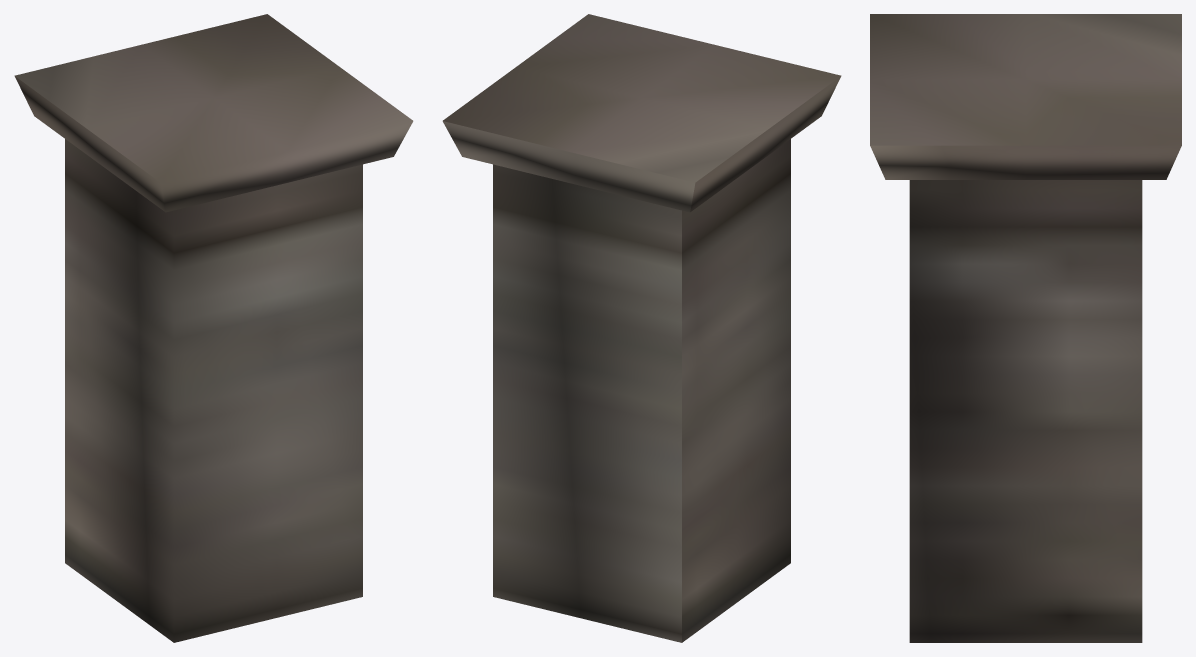
Rendered from corner_foundation.glb.
3 renders of one model, left to right at view 1: azimuth 30°, elevation 25°; view 2: azimuth 150°, elevation 25°; view 3: azimuth 270°, elevation 25°, orthographic. The views are drawn at different scales.
Parts seen in each view (by area): view 1: corner_foundation; view 2: corner_foundation; view 3: corner_foundation.
Boxes of the visible parts, box(x1,y1,x2,y2) form: corner_foundation: box(14, 14, 413, 642); corner_foundation: box(442, 14, 841, 642); corner_foundation: box(870, 14, 1181, 642).
Size of the model in its own units: 2.38 by 4.34 by 2.38.
1 material, 1 textured.
